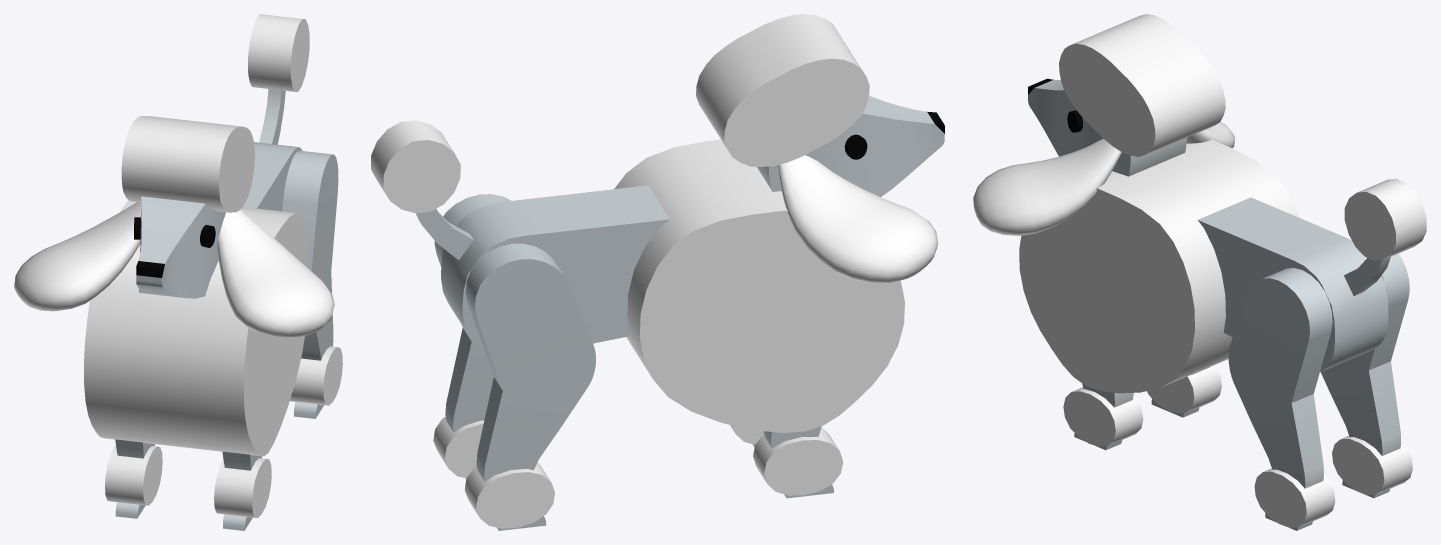
File: poodle.gltf
3 renders of one model, left to right at view 1: azimuth 30°, elevation 25°; view 2: azimuth 150°, elevation 25°; view 3: azimuth 270°, elevation 25°, orthographic. The views are drawn at different scales.
Parts seen in each view (by area): view 1: Cube.004, Cone.006, Cube.6179, Cone.005, Cube.6178, Circle.1844; view 2: Cube.004, Cube.6179, Cube.6178, Cone.006, Cone.005; view 3: Cube.004, Cube.6179, Cube.6178, Cone.006, Cone.005.
Boxes of the visible parts, box(x1,y1,x2,y2) form: Cube.004: box(84, 14, 342, 517); Cone.006: box(14, 202, 334, 337); Cube.6179: box(115, 151, 338, 530); Cone.005: box(136, 196, 225, 298); Cube.6178: box(243, 89, 302, 211); Circle.1844: box(134, 217, 215, 247); Cube.004: box(371, 14, 904, 528); Cube.6179: box(434, 194, 833, 530); Cube.6178: box(416, 185, 669, 349); Cone.006: box(778, 155, 938, 283); Cone.005: box(757, 95, 944, 197); Cube.004: box(1019, 14, 1426, 527); Cube.6179: box(1074, 253, 1409, 530); Cube.6178: box(1198, 197, 1390, 371); Cone.006: box(973, 121, 1235, 235); Cone.005: box(1028, 78, 1187, 176).
Bounding box in the file's own units: 2.13 × 2 × 2.13.
1 material, 1 textured.
